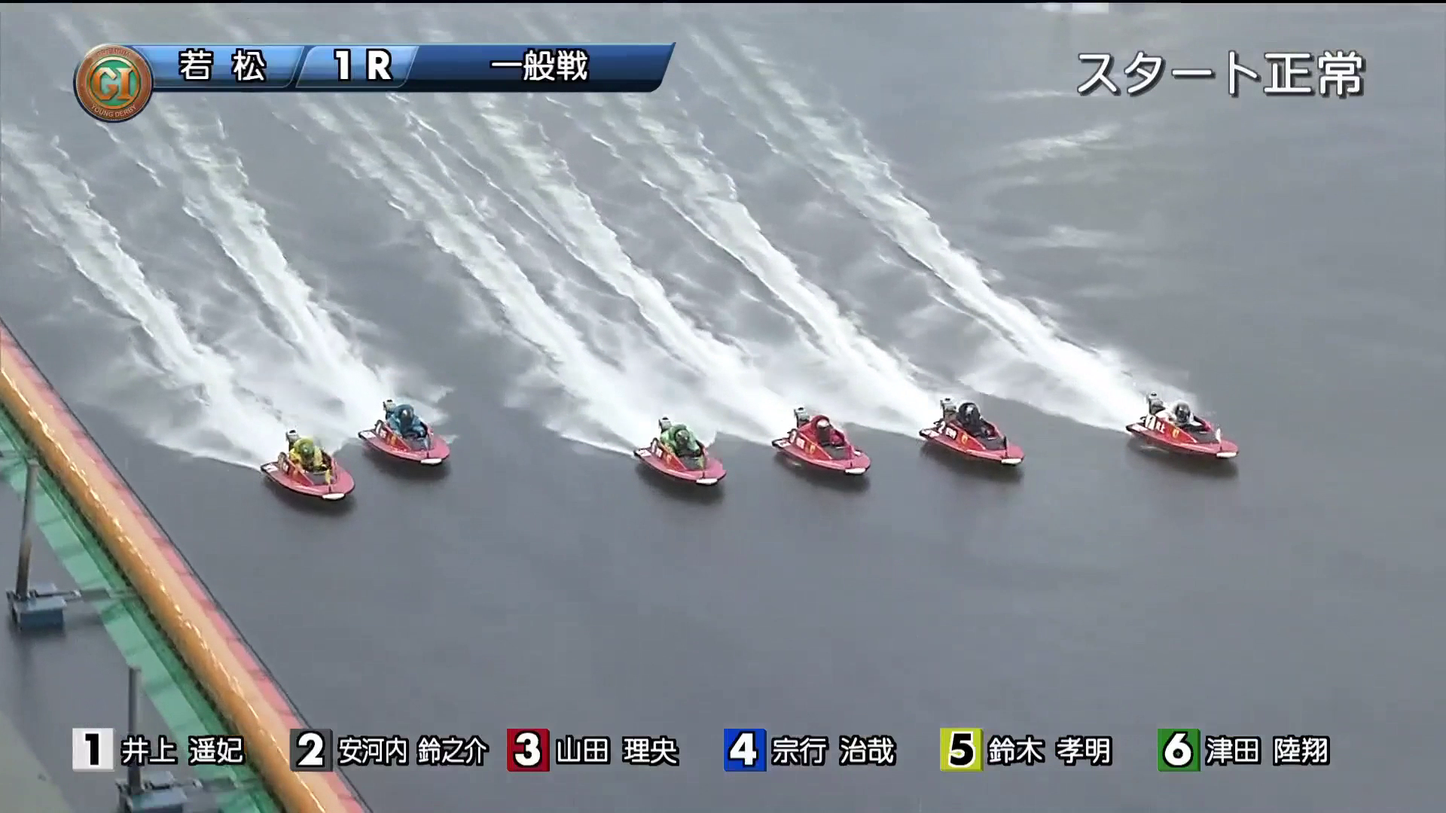１号艇: (1148, 382, 1250, 428)
２号艇: (935, 393, 1037, 438)
３号艇: (777, 425, 883, 467)
４号艇: (630, 428, 739, 478)
５号艇: (344, 401, 466, 456)
６号艇: (271, 454, 370, 510)
